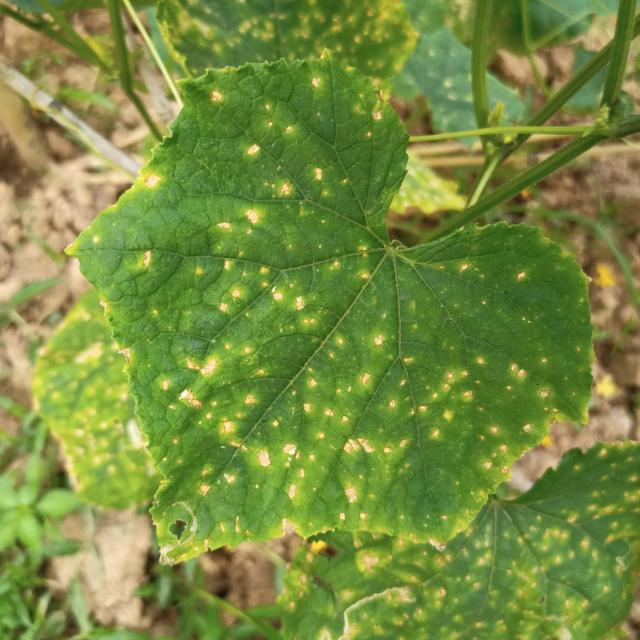disease_cucumber: (87, 246, 583, 544), (205, 74, 383, 246), (136, 170, 165, 191)
